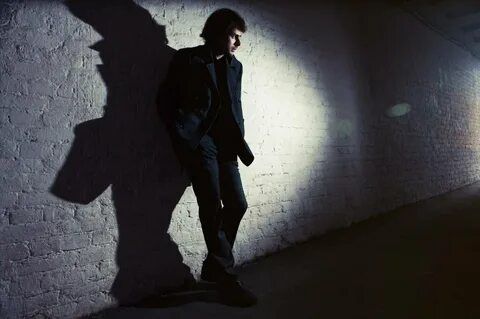awake: (163, 8, 255, 302)
